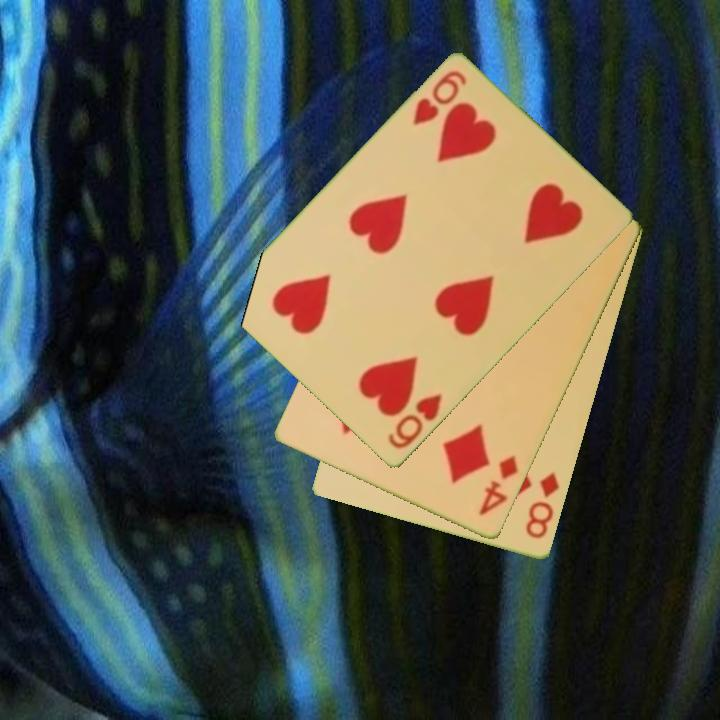4d: (475, 452, 522, 519)
6h: (384, 390, 446, 453), (409, 67, 469, 129)
8d: (522, 469, 563, 543)
